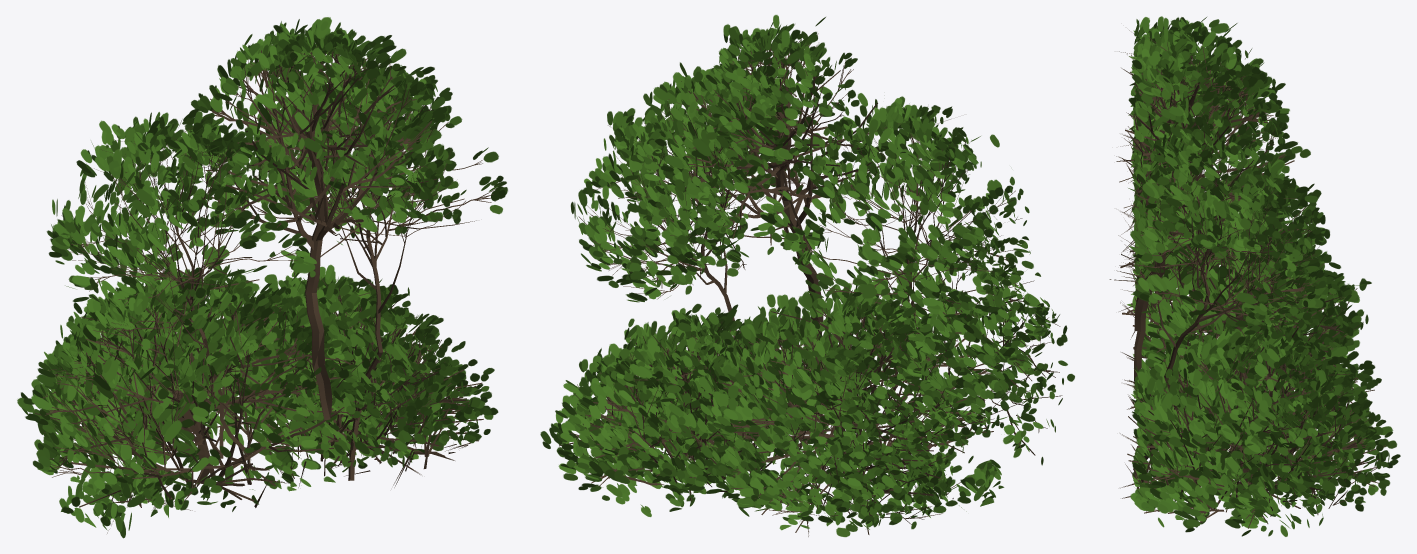
3 renders of one model, left to right at view 1: azimuth 30°, elevation 25°; view 2: azimuth 150°, elevation 25°; view 3: azimuth 270°, elevation 25°, orthographic. The views are drawn at different scales.
Visible parts, largest first — view 1: oak 01.001_trunk_Mat.001_0.478; view 2: oak 01.001_trunk_Mat.001_0.478; view 3: oak 01.001_trunk_Mat.001_0.478.
Boxes of the visible parts, x1,y1,x2,y2 form: oak 01.001_trunk_Mat.001_0.478: [17, 17, 507, 538]; oak 01.001_trunk_Mat.001_0.478: [540, 15, 1074, 537]; oak 01.001_trunk_Mat.001_0.478: [1109, 16, 1400, 536].
Size of the model in its own units: 4.3 by 3.96 by 2.39.
Materials: 2 (1 with a texture image).
